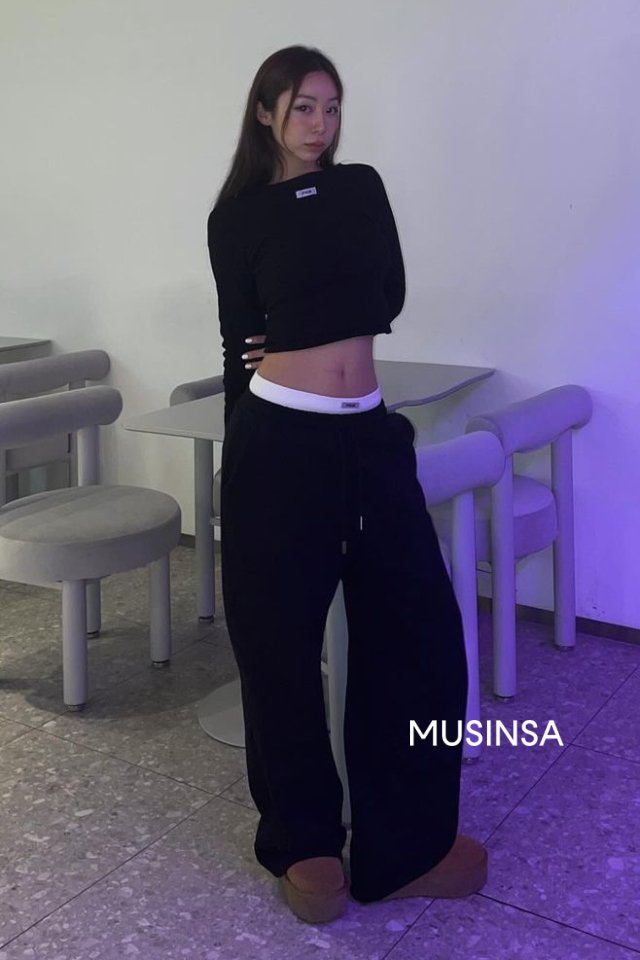Croptop: (196, 159, 414, 351)
Pants: (219, 377, 464, 876)
Shoes: (273, 822, 496, 925)
